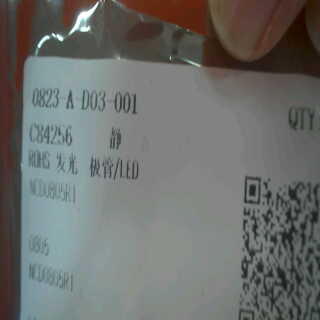LED: (51, 148, 140, 184)
